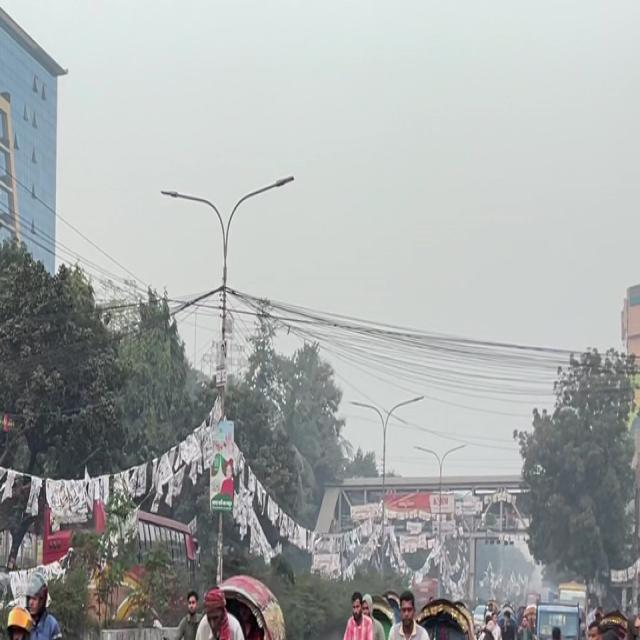motorbike: (0, 554, 85, 640), (155, 563, 211, 640)
